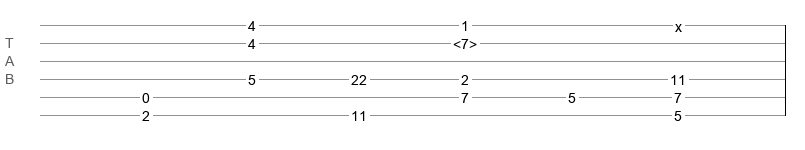0: (142, 90, 150, 100)
1: (461, 18, 469, 28)
11: (351, 108, 367, 118), (670, 72, 686, 82)
2: (142, 108, 150, 118), (461, 72, 469, 82)
22: (351, 72, 367, 82)
4: (248, 36, 256, 46), (248, 18, 256, 28)
5: (248, 72, 256, 82), (568, 90, 576, 100), (674, 108, 682, 118)
7: (461, 90, 469, 100), (674, 90, 682, 100)
harmonic: (453, 36, 477, 46)
x: (675, 19, 682, 27)
